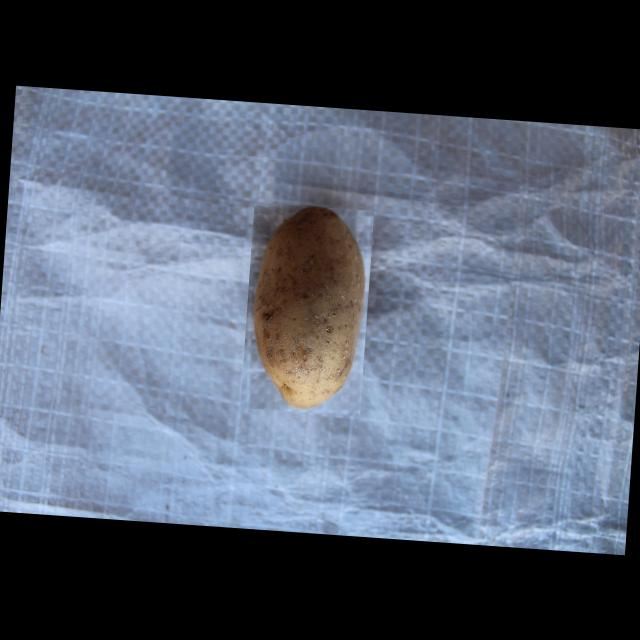Diseased-fungal potato: (240, 202, 374, 416)
